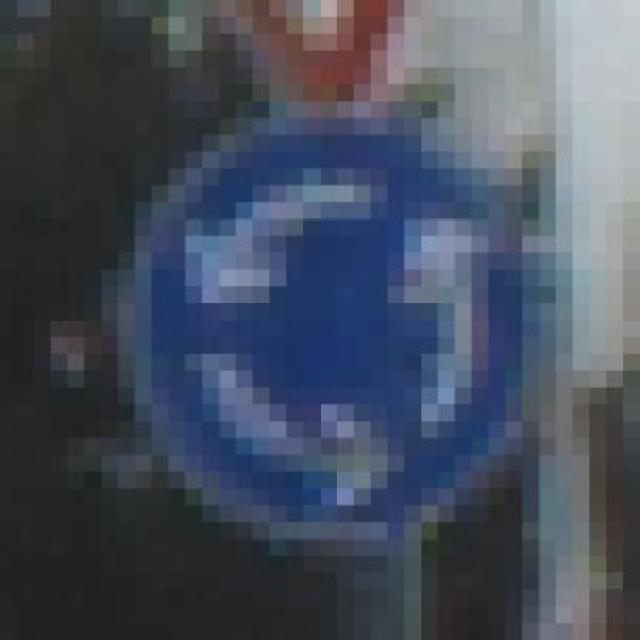Round-About: (84, 118, 556, 573)
